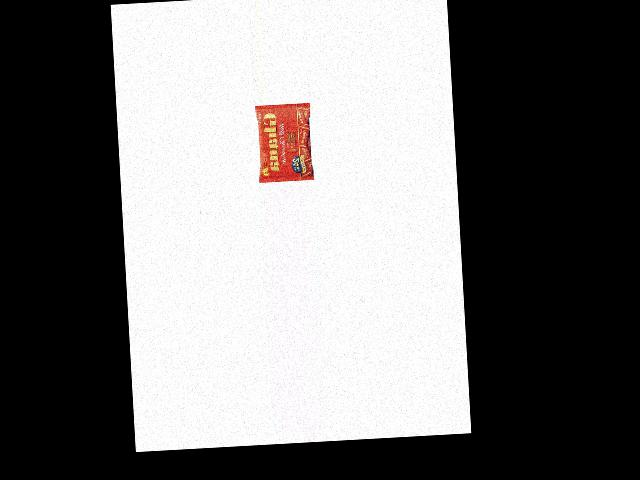chocolate: (256, 104, 316, 183)
